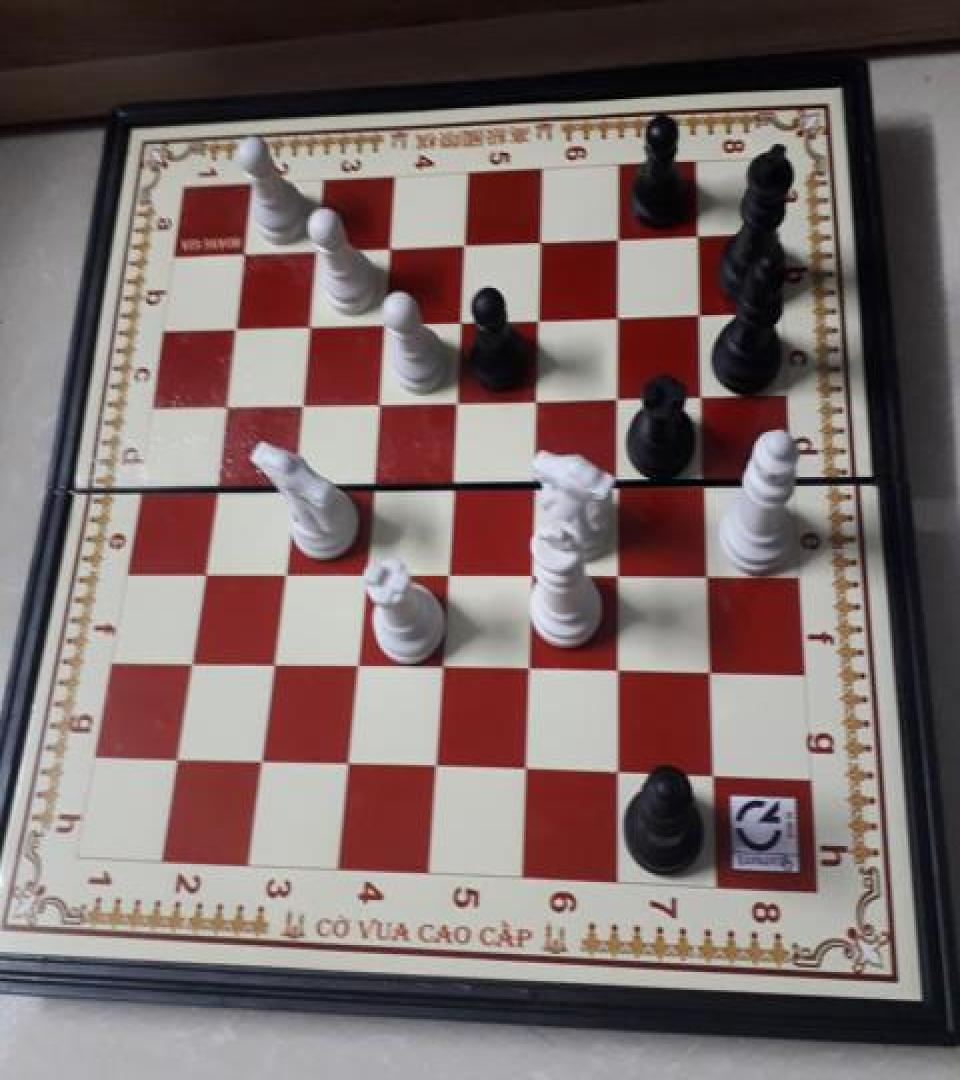xcorner: (677, 221, 707, 256), (598, 224, 628, 258), (521, 227, 551, 261), (446, 230, 476, 264), (372, 233, 402, 267), (299, 235, 329, 269), (228, 237, 258, 271), (679, 298, 709, 332), (599, 299, 629, 333), (442, 304, 472, 338), (366, 306, 396, 340), (291, 308, 321, 342), (219, 309, 249, 343), (682, 379, 712, 413), (599, 380, 629, 414), (517, 381, 547, 415), (438, 382, 468, 416), (359, 384, 389, 418), (283, 384, 313, 418), (208, 386, 238, 420), (274, 467, 304, 501), (197, 467, 227, 501), (687, 556, 717, 590), (599, 554, 629, 588), (513, 554, 543, 588), (428, 554, 458, 588), (345, 554, 375, 588), (265, 552, 295, 586), (186, 552, 216, 586), (599, 651, 629, 685), (510, 649, 540, 683), (423, 648, 453, 682), (338, 646, 368, 680), (173, 642, 203, 676), (694, 756, 724, 790), (599, 754, 629, 788), (507, 750, 537, 784), (417, 747, 447, 781), (330, 744, 360, 778), (244, 741, 274, 775), (160, 739, 190, 773), (519, 302, 549, 335), (685, 465, 715, 498), (599, 465, 629, 498), (515, 466, 545, 499), (433, 466, 463, 499), (353, 466, 383, 499), (690, 653, 720, 686), (255, 645, 285, 678)
